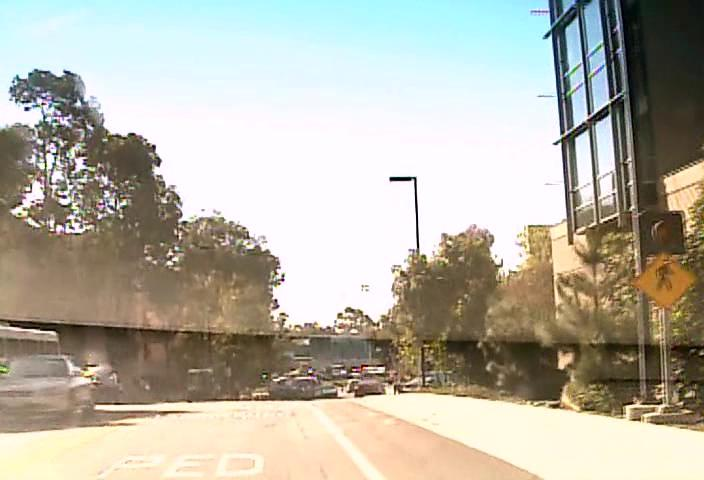pedestrianCrossing: (633, 251, 695, 308)
